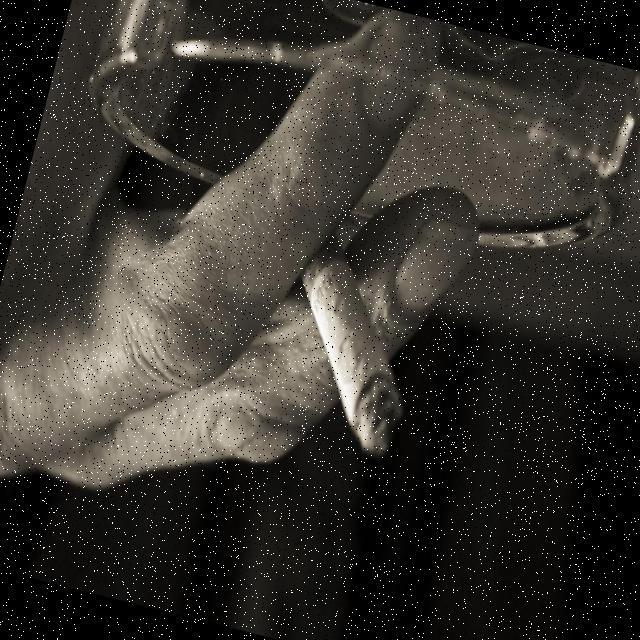cigarette: (256, 242, 437, 475)
